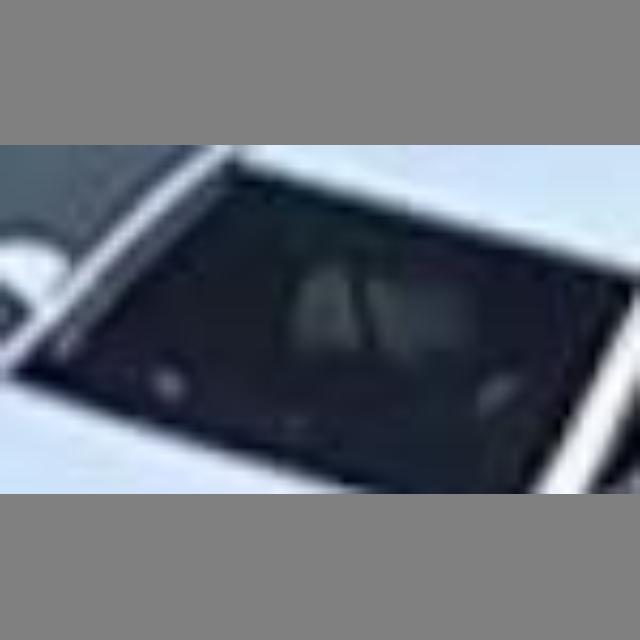pakai: (265, 222, 427, 418)
